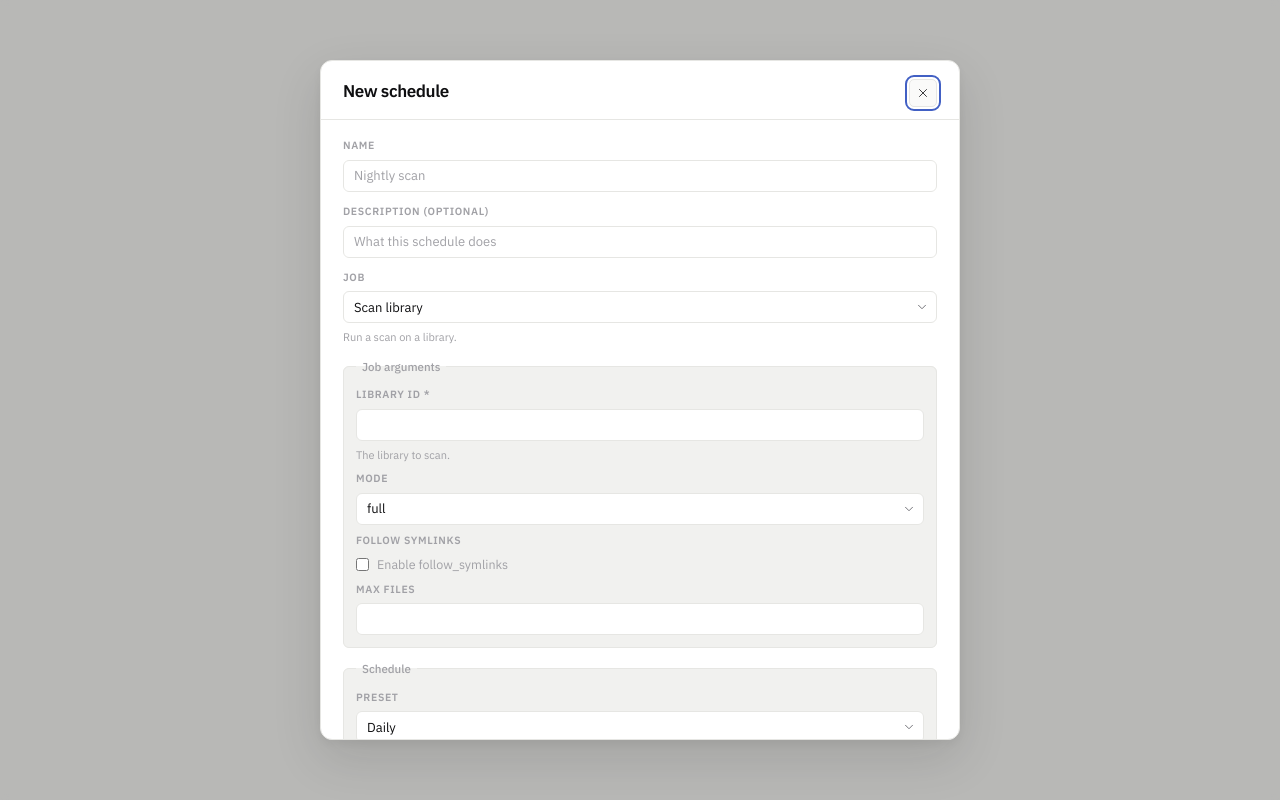
Stage 9 — AutomationScheduleDialog form › switching job kind rehydrates the args form
Expected: the field labelled "Library ID * The library to scan." is shown, [356, 409, 924, 441]
Select "Evaluate rules" in the dropdown labelled "Job Run a scan on a library." at (640, 307), box [343, 291, 937, 323]
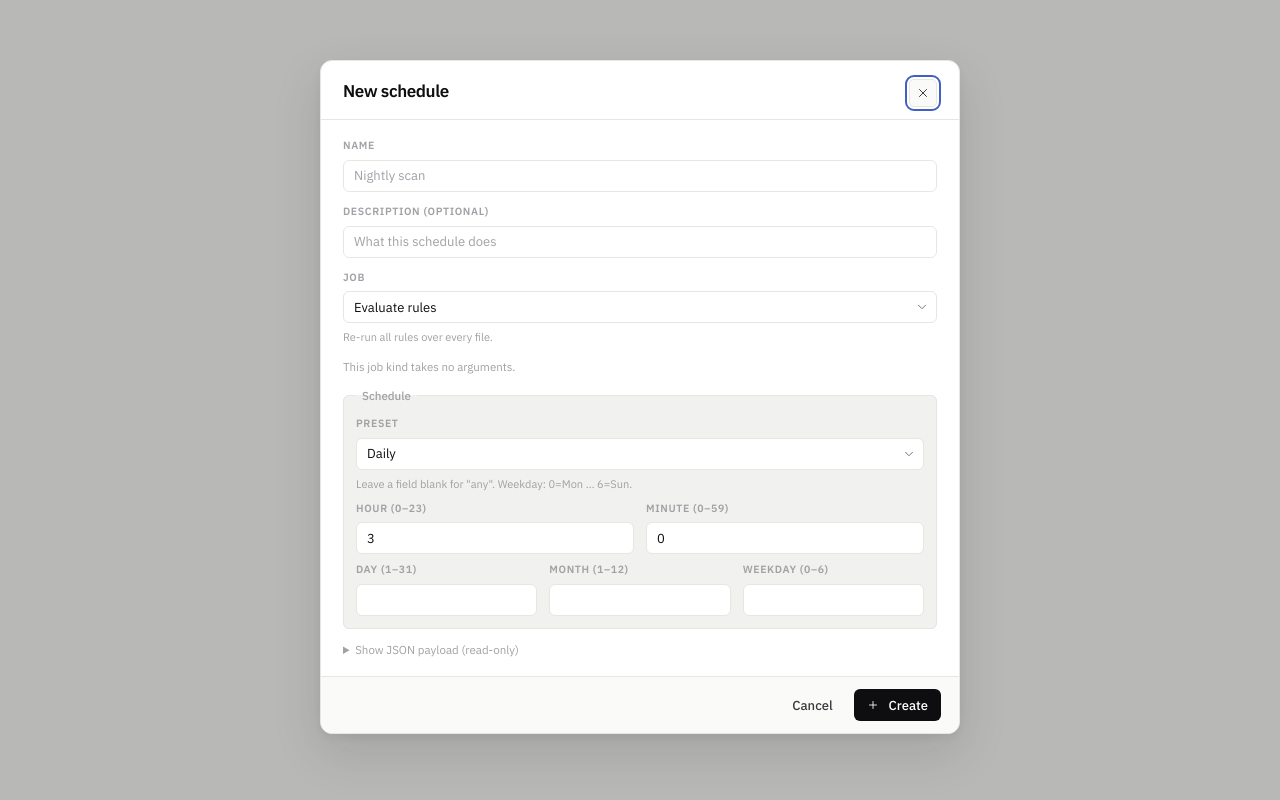
Expected: the text labelled "Library ID" is gone
Expected: the text "This job kind takes no arguments." is shown, [343, 359, 516, 374]
